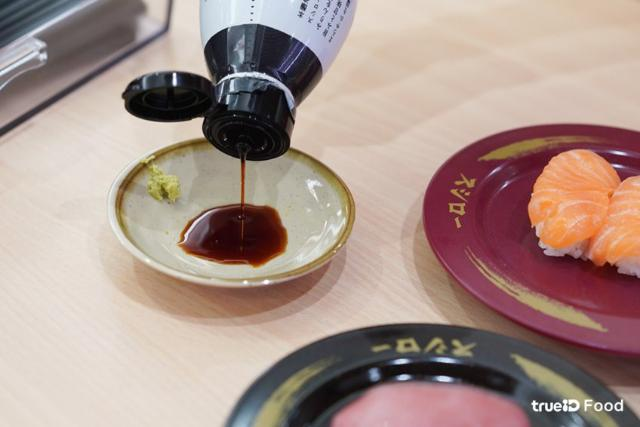janback: (223, 307, 631, 427)
janred: (421, 101, 640, 332)
